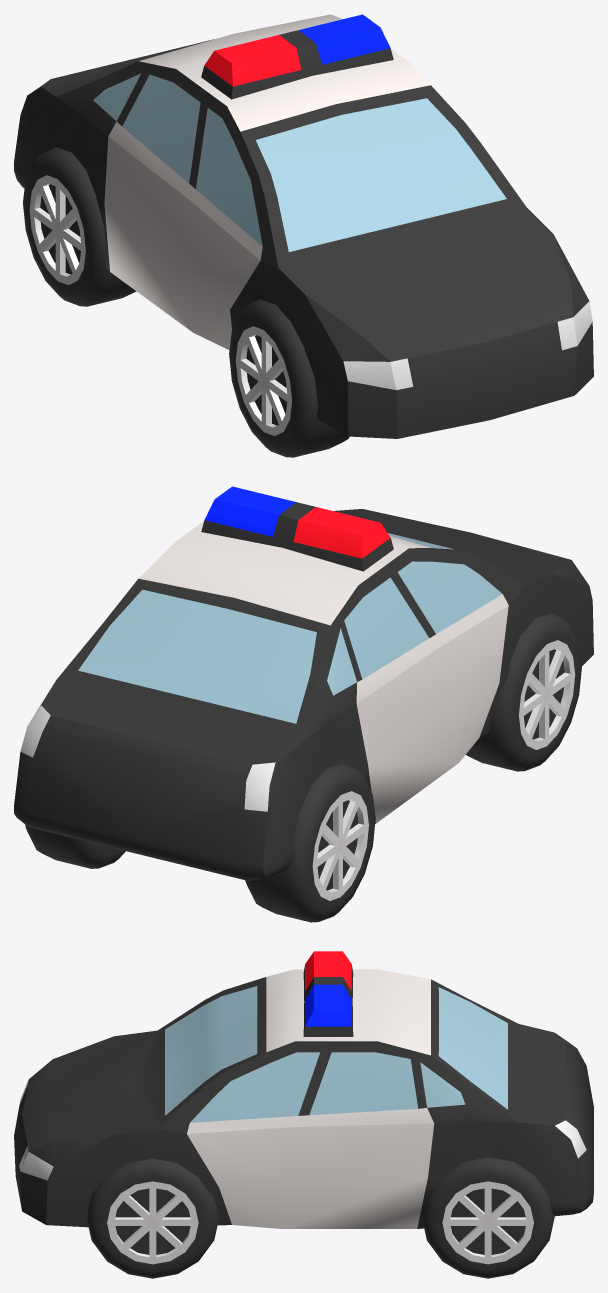
Rendered from Car_Police.fbx.
3 renders of one model, top to bottom at view 1: azimuth 30°, elevation 25°; view 2: azimuth 150°, elevation 25°; view 3: azimuth 270°, elevation 25°, orthographic. The views are drawn at different scales.
Visible parts, largest first — view 1: Car_Police, Wheel.002, Top.003; view 2: Car_Police, Wheel.002, Top.003; view 3: Car_Police, Wheel.002, Top.003.
Part boxes in pixels (x1,y1,x2,y2): Car_Police: (14,14,593,438); Wheel.002: (23,147,349,457); Top.003: (201,14,393,99); Car_Police: (14,509,593,880); Wheel.002: (25,613,581,922); Top.003: (201,486,393,571); Car_Police: (14,969,593,1228); Wheel.002: (86,1157,554,1278); Top.003: (303,951,353,1036).
Size of the model in its own units: 250 by 545 by 255.
